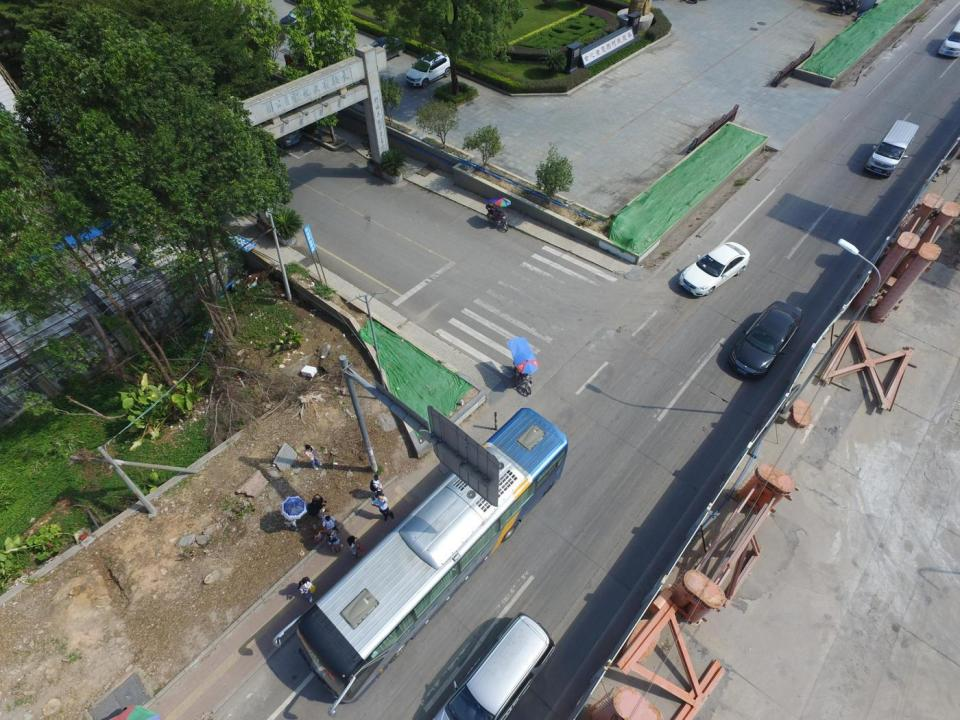bus: (273, 408, 568, 719)
car: (730, 300, 803, 380), (678, 242, 750, 298), (405, 51, 453, 88), (279, 7, 329, 29), (367, 36, 404, 60), (273, 125, 300, 147)
truck: (866, 119, 918, 179)
van: (432, 614, 556, 720)
